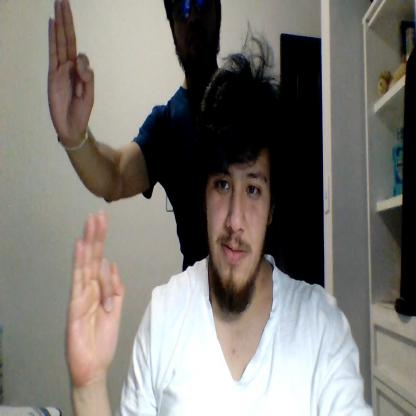F: (64, 211, 124, 386), (48, 0, 94, 136)
